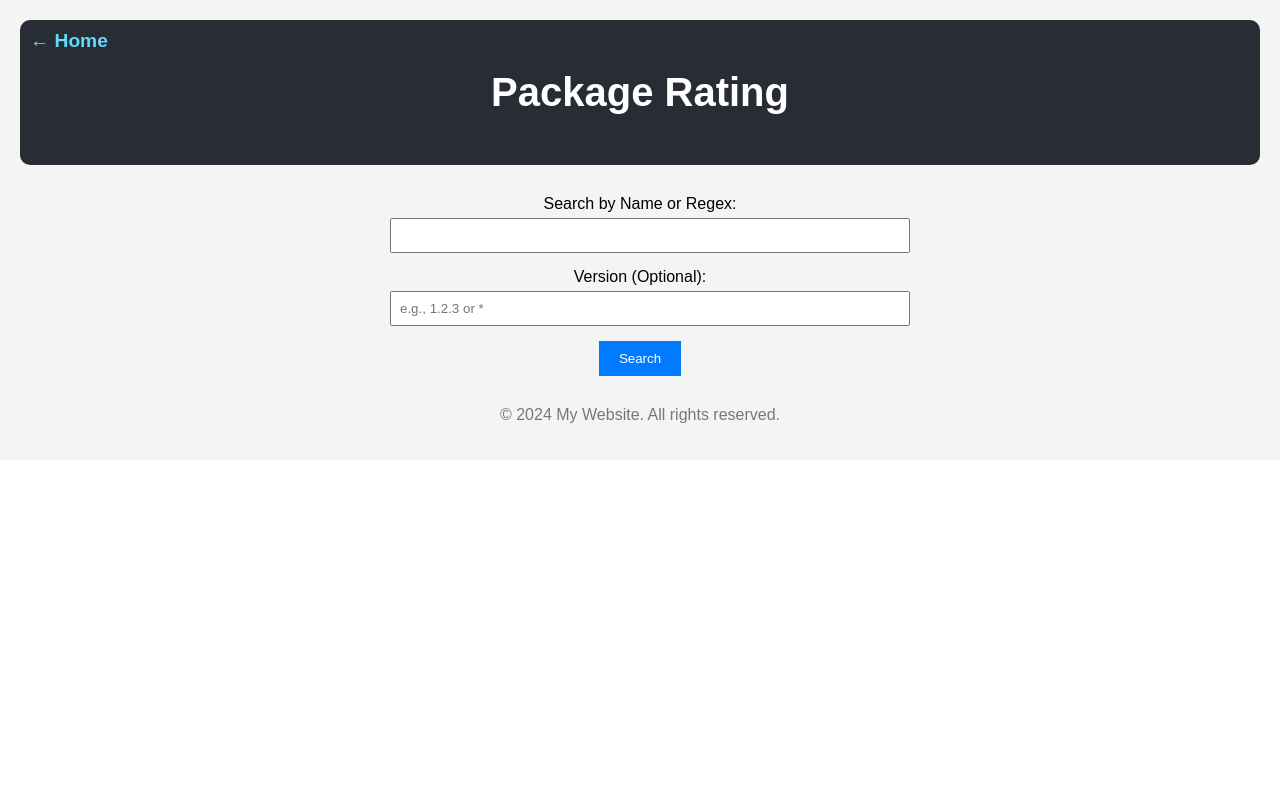
Test: RatingPage Component › renders correctly and performs package search
Note: Simulate user input and search
Type "example-package" into the field labelled "Search by Name or Regex:" at (650, 236), box [390,218,910,253]
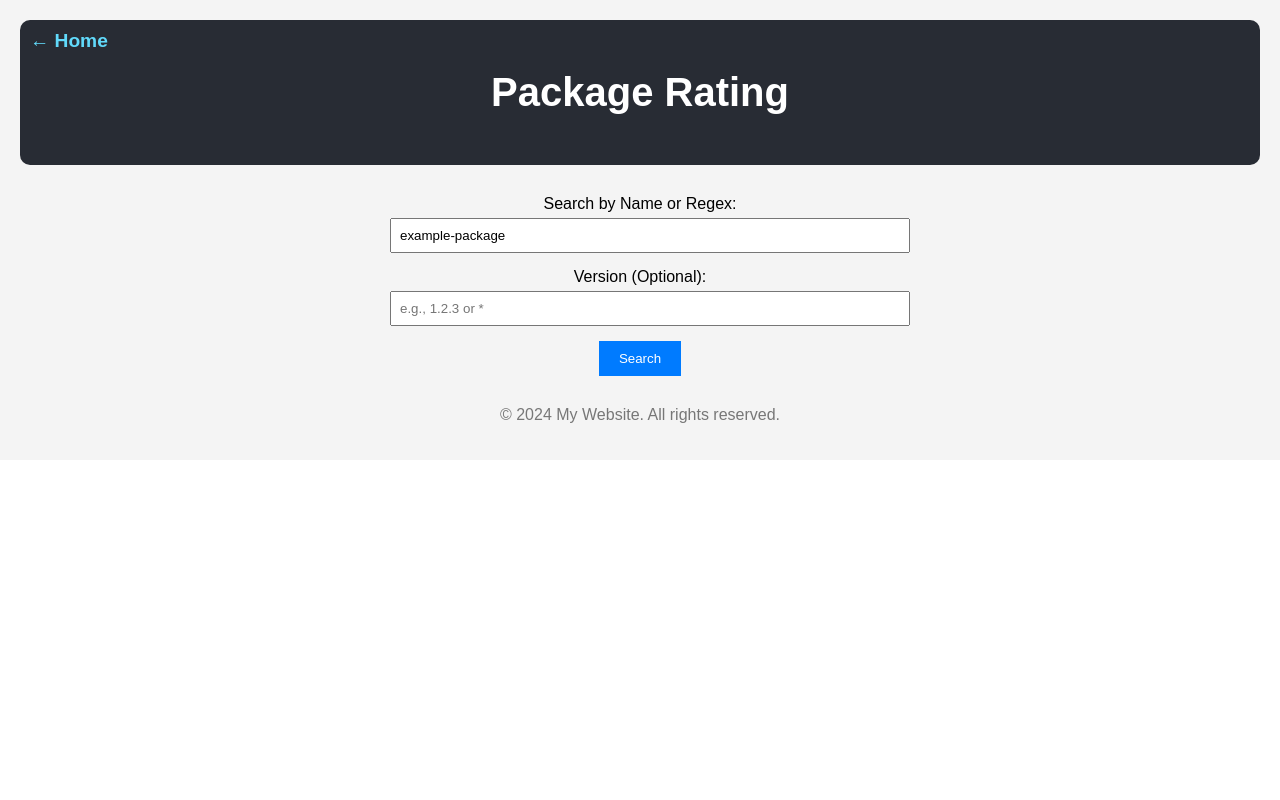
Click the button "Search" at (640, 358), box [599,341,681,376]
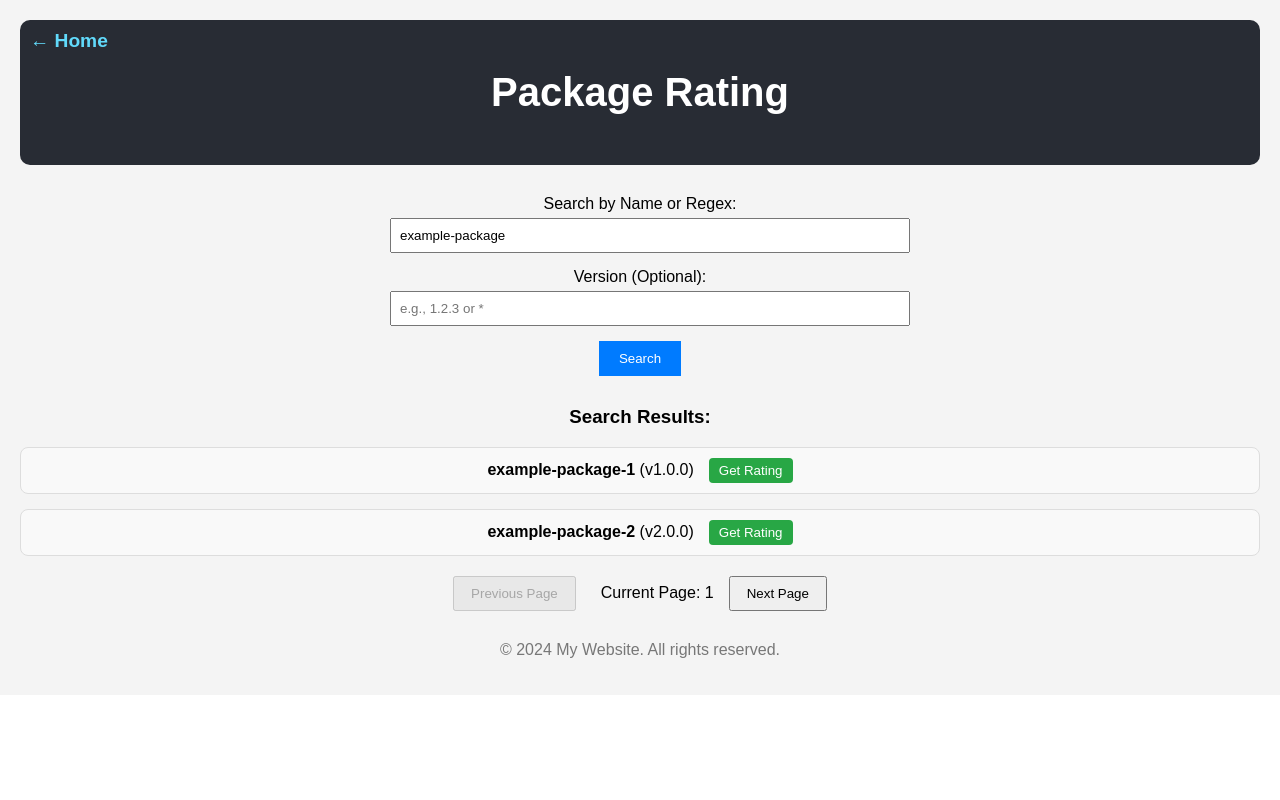
Check: the text "example-package-1" is shown, box [488,461,635,478]
Check: the text "example-package-2" is shown, box [488,523,635,540]
